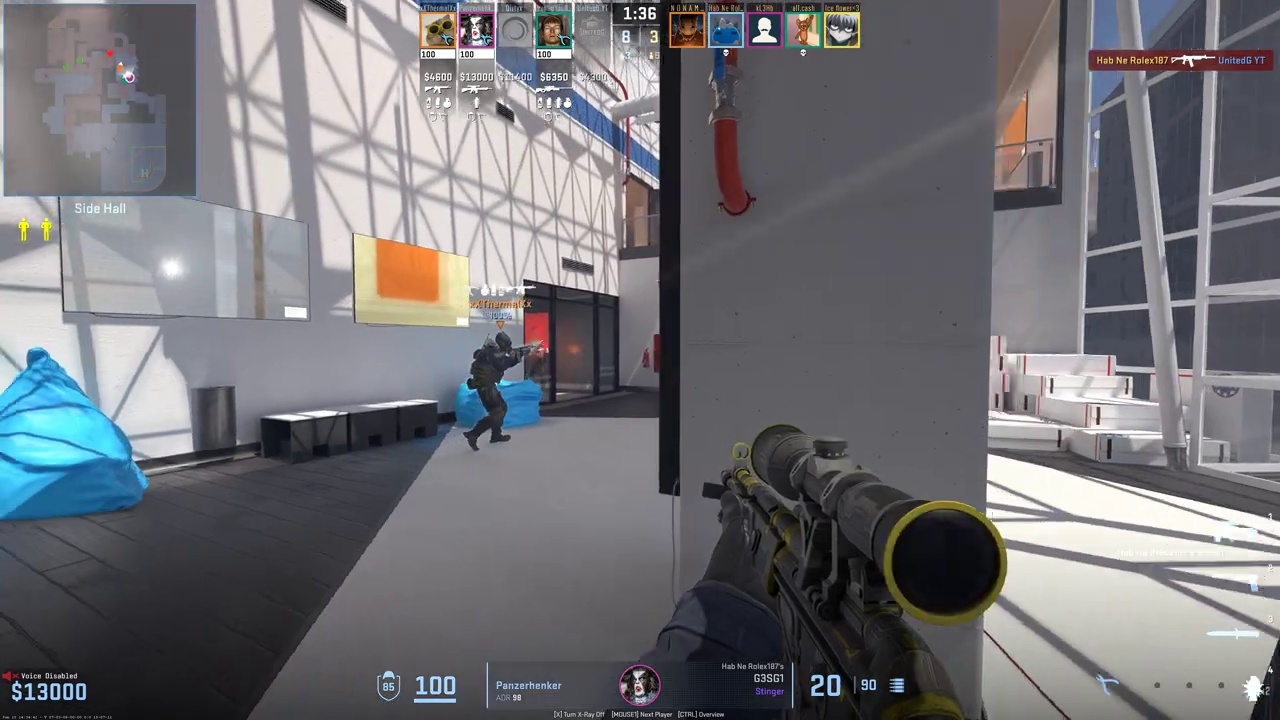CT: (469, 331, 514, 450)
